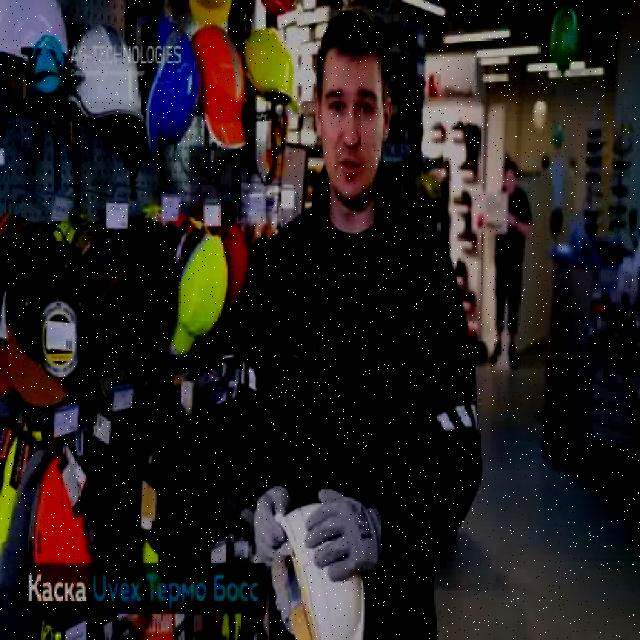Gloves: (303, 483, 385, 585), (253, 486, 292, 572)
Helmet: (270, 504, 370, 638), (64, 26, 147, 134), (148, 18, 204, 166), (192, 28, 250, 156), (0, 0, 78, 74), (244, 31, 298, 117)
